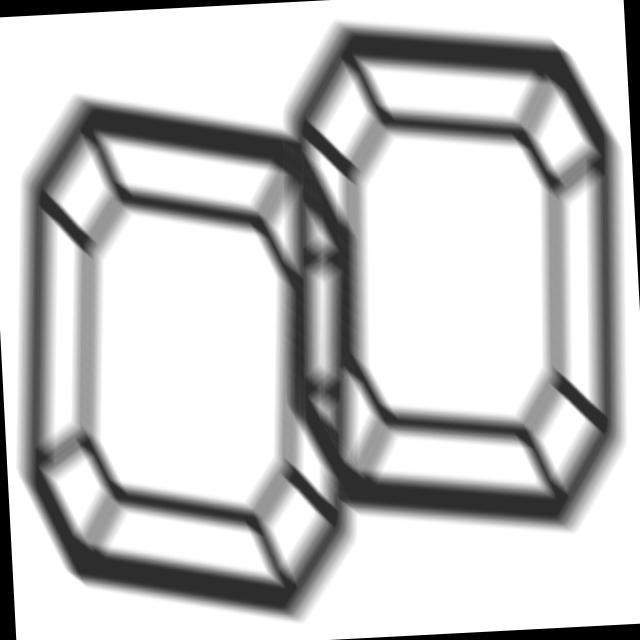emerald: (1, 71, 393, 640), (272, 1, 640, 554)
